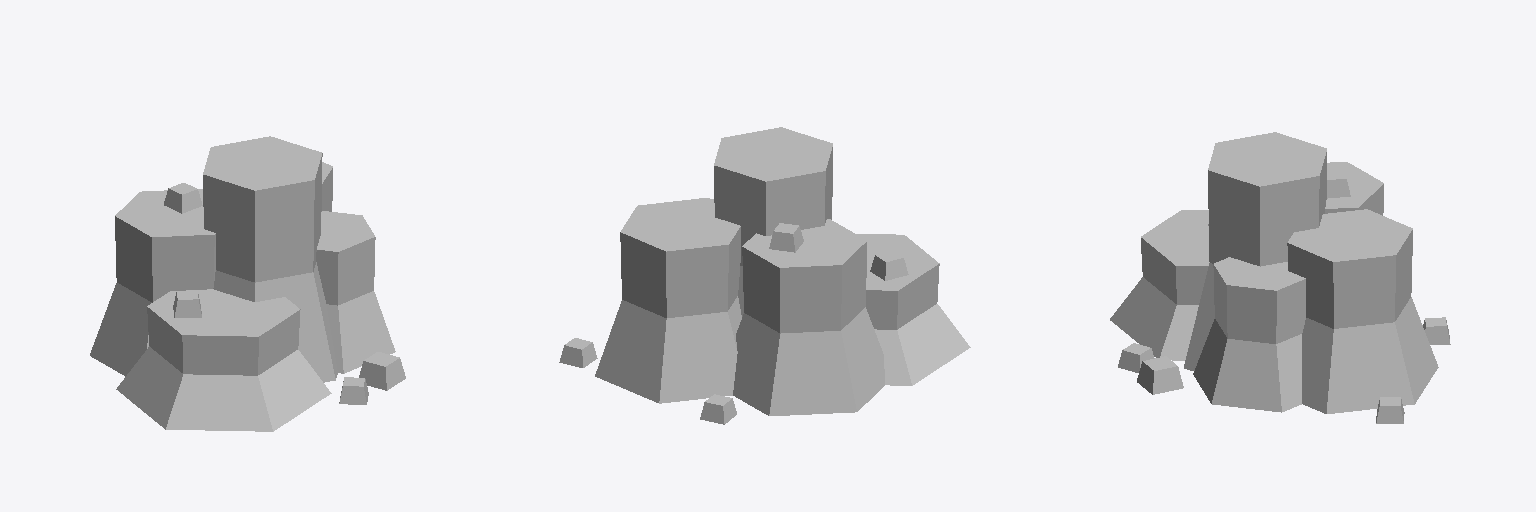
Rendered from rock3.obj.
3 views of the same model, side by side, from view 1: azimuth 30°, elevation 25°; view 2: azimuth 150°, elevation 25°; view 3: azimuth 270°, elevation 25° (orthographic).
Parts seen in each view (by area): view 1: rock3; view 2: rock3; view 3: rock3.
Part boxes in pixels (bbox=[...]): rock3: bbox=[90, 136, 405, 431]; rock3: bbox=[559, 127, 970, 424]; rock3: bbox=[1110, 132, 1450, 423].
Bounding box in the file's own units: 3.64 × 2.3 × 3.67.